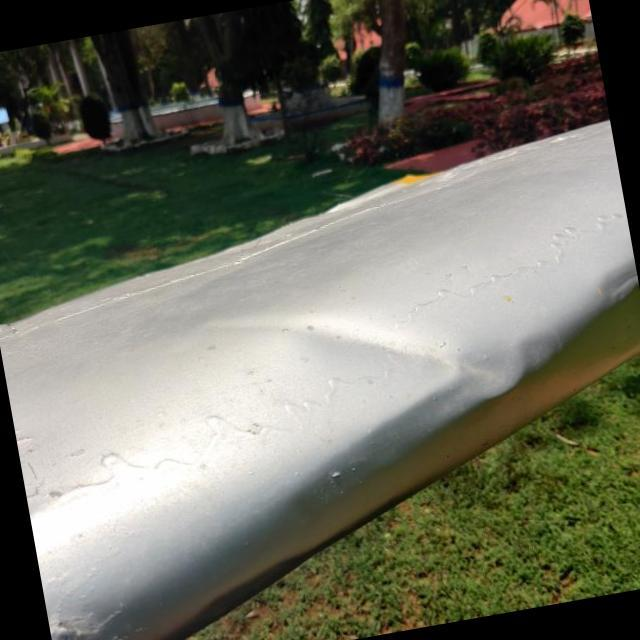Dent: (248, 244, 588, 476), (578, 255, 640, 324)
